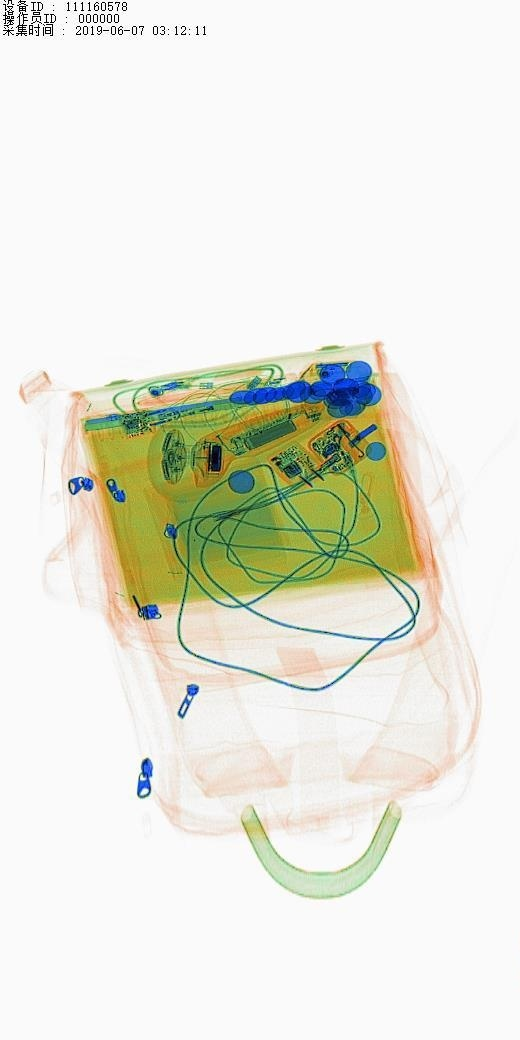NonmetallicFire: (149, 388, 253, 437)
